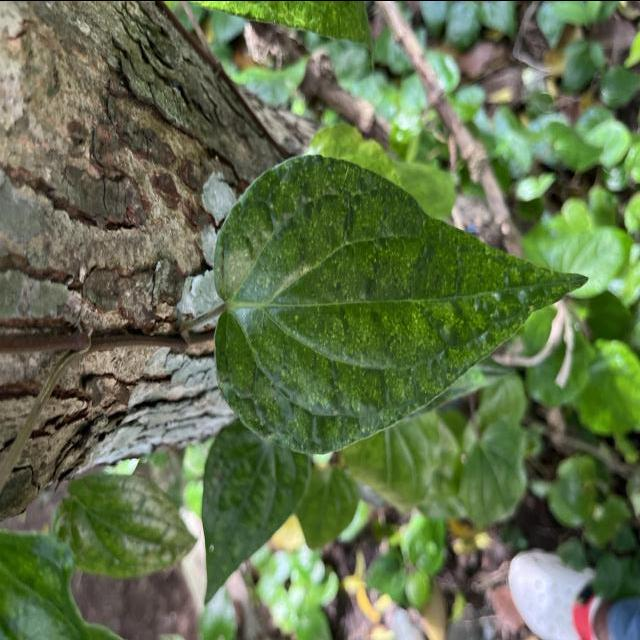Piper betle: (211, 149, 592, 459)
